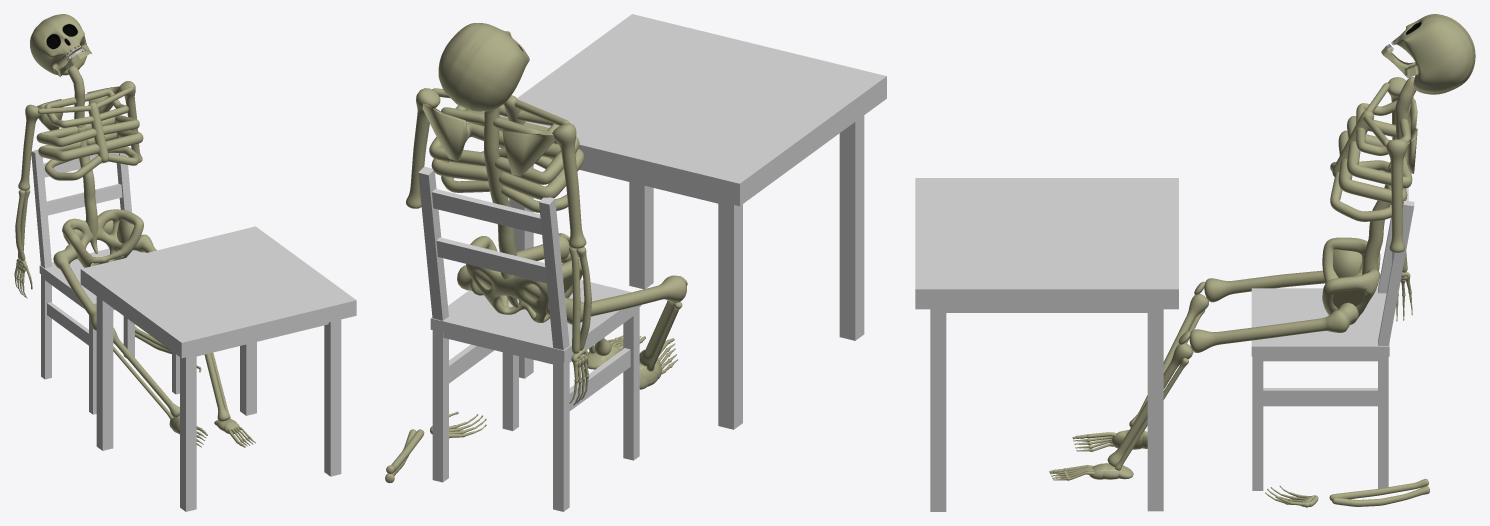
Rendered from Skeleton chess puzzle with chair and table.glb.
3 renders of one model, left to right at view 1: azimuth 30°, elevation 25°; view 2: azimuth 150°, elevation 25°; view 3: azimuth 270°, elevation 25°, orthographic. The views are drawn at different scales.
Parts seen in each view (by area): view 1: Tafelblad.001, Dup ruggengraad.002, Poot1.001, Dup skull.002, Poot 3.001, Poot 2.019, Poot 2.015, Poot 2.013, Poot 4.001, Cube.020, Dup fibula&tibia.r.001, Dup femur.r.001 (+9 smaller); view 2: Tafelblad.001, Dup ruggengraad.002, Cube.020, Dup skull.002, Poot 3.001, Poot 2.019, Poot 2.013, Poot 2.015, Poot 2.014, Poot1.001, Poot 2.018, Poot 2.017 (+11 smaller); view 3: Tafelblad.001, Dup ruggengraad.002, Cube.020, Dup skull.002, Poot1.001, Poot 4.001, Dup femur.l.002, Poot 2.016, Poot 2.015, Dup femur.r.001, Dup fibula&tibia.l.002, Poot 2.014 (+6 smaller).
Boxes of the visible parts, <box> form: Tafelblad.001: <box>80,226,356,358</box>; Dup ruggengraad.002: <box>36,66,143,267</box>; Poot1.001: <box>324,319,341,476</box>; Dup skull.002: <box>30,14,92,76</box>; Poot 3.001: <box>96,296,113,450</box>; Poot 2.019: <box>180,355,196,511</box>; Poot 2.015: <box>31,149,131,268</box>; Poot 2.013: <box>41,274,134,379</box>; Poot 4.001: <box>240,342,256,415</box>; Cube.020: <box>39,248,144,310</box>; Dup fibula&tibia.r.001: <box>113,327,179,419</box>; Dup femur.r.001: <box>53,244,96,330</box>; Tafelblad.001: <box>499,14,886,206</box>; Dup ruggengraad.002: <box>422,88,584,322</box>; Cube.020: <box>430,279,641,364</box>; Dup skull.002: <box>438,23,529,111</box>; Poot 3.001: <box>718,201,742,429</box>; Poot 2.019: <box>839,115,864,340</box>; Poot 2.013: <box>432,330,569,511</box>; Poot 2.015: <box>418,166,569,350</box>; Poot 2.014: <box>502,307,639,460</box>; Poot1.001: <box>629,182,653,289</box>; Poot 2.018: <box>436,237,546,283</box>; Poot 2.017: <box>432,189,541,234</box>; Tafelblad.001: <box>915,178,1178,312</box>; Dup ruggengraad.002: <box>1322,77,1417,324</box>; Cube.020: <box>1251,288,1389,361</box>; Dup skull.002: <box>1381,14,1475,94</box>; Poot1.001: <box>930,309,946,511</box>; Poot 4.001: <box>1147,309,1163,511</box>; Dup femur.l.002: <box>1189,302,1358,352</box>; Poot 2.016: <box>1263,388,1377,406</box>; Poot 2.015: <box>1378,200,1414,345</box>; Dup femur.r.001: <box>1204,270,1324,302</box>; Dup fibula&tibia.l.002: <box>1107,343,1193,470</box>; Poot 2.014: <box>1252,356,1263,490</box>.
Size of the model in its own units: 2.47 by 4.56 by 5.26.
1 material, 1 textured.
